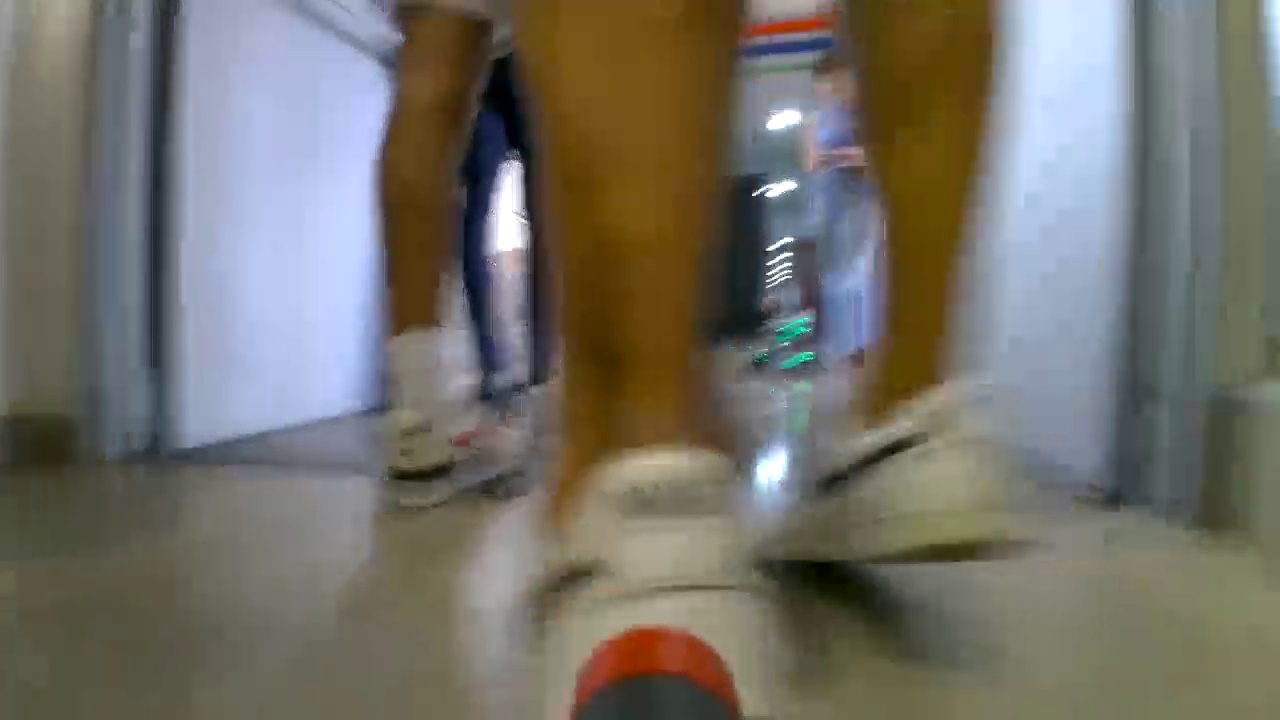robot: (725, 292, 832, 390)
